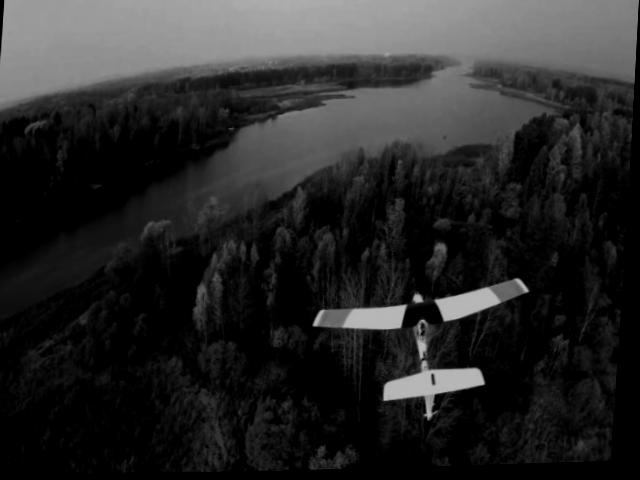hedef: (306, 267, 536, 429)
